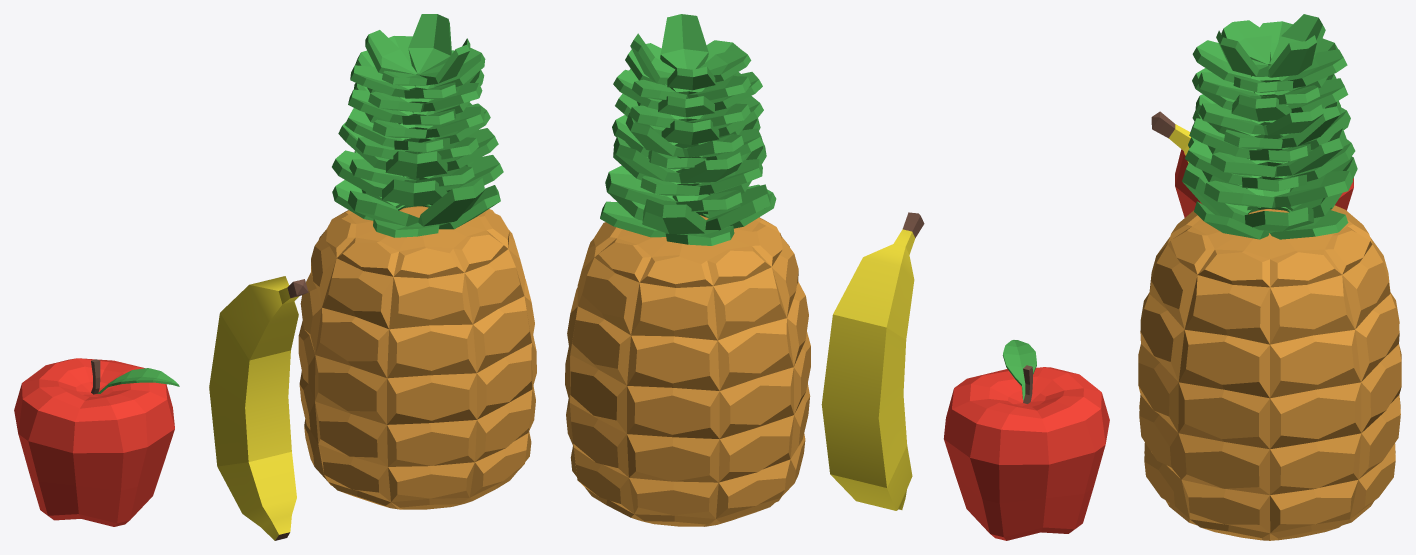
The model's file is fruit.fbx.
The picture shows the model from 3 angles, left to right: view 1: azimuth 30°, elevation 25°; view 2: azimuth 150°, elevation 25°; view 3: azimuth 270°, elevation 25°; orthographic projection. The views are drawn at different scales.
Visible parts, largest first — view 1: pineapple, apple, banana; view 2: pineapple, apple, banana; view 3: pineapple, apple, banana.
Part boxes in pixels (x1,y1,x2,y2): pineapple: [298, 14, 536, 509]; apple: [14, 358, 179, 526]; banana: [209, 276, 308, 540]; pineapple: [565, 14, 810, 526]; apple: [943, 340, 1109, 540]; banana: [821, 212, 924, 510]; pineapple: [1138, 14, 1401, 540]; apple: [1175, 149, 1353, 217]; banana: [1151, 111, 1190, 162].
Bounding box in the file's own units: 1006 × 862 × 419.
